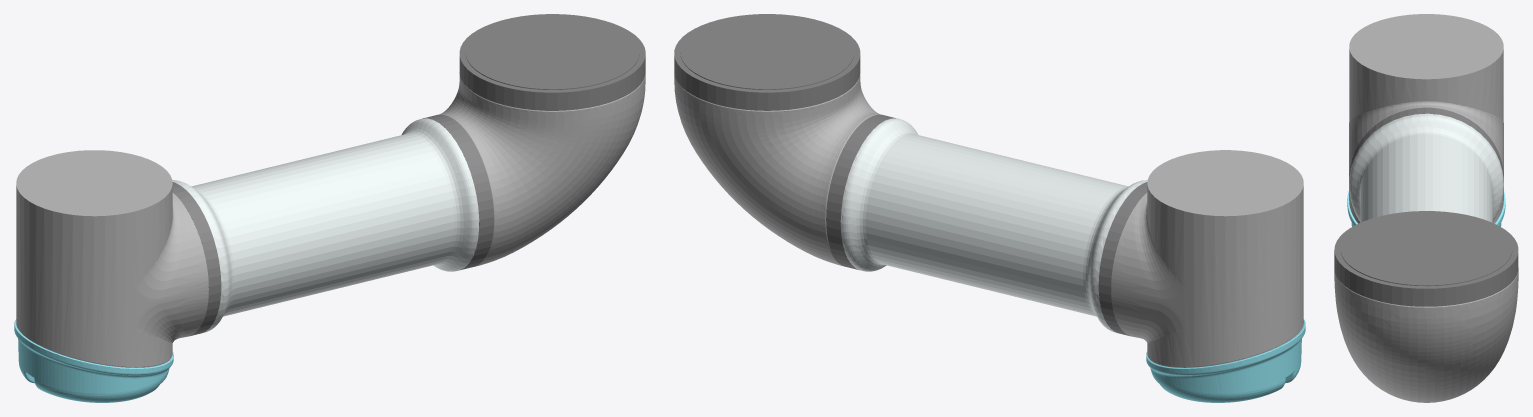
The model's file is UR3eLink3.dae.
3 renders of one model, left to right at view 1: azimuth 30°, elevation 25°; view 2: azimuth 150°, elevation 25°; view 3: azimuth 270°, elevation 25°, orthographic.
Visible parts, largest first — view 1: UR3eLink3; view 2: UR3eLink3; view 3: UR3eLink3.
Part boxes in pixels (x1=…): UR3eLink3: x1=14, y1=14, x2=645, y2=402; UR3eLink3: x1=674, y1=14, x2=1305, y2=402; UR3eLink3: x1=1334, y1=14, x2=1518, y2=402.
Size of the model in its own units: 0.2828 by 0.075 by 0.0971.
